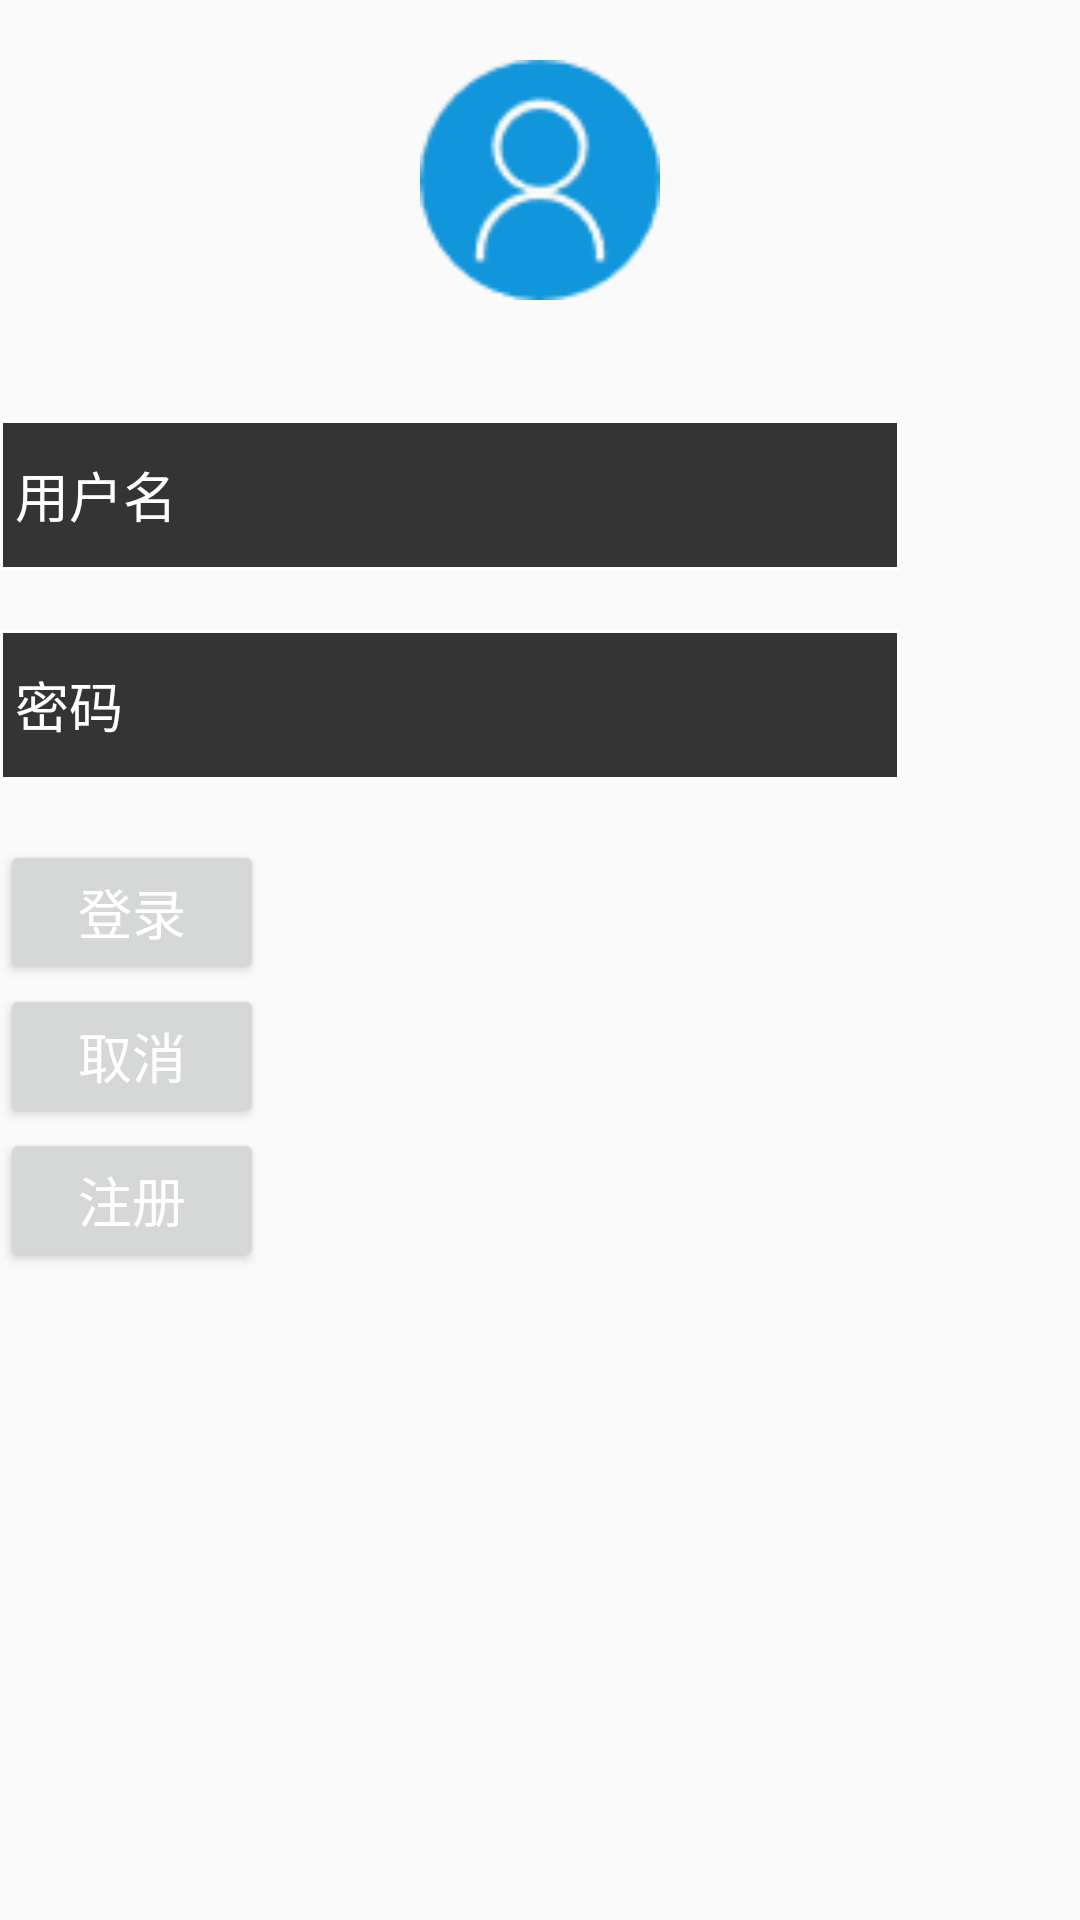

Point at icon controls on the screen. Image size 1080px×1920px, points as [x,y].
user: [540,180]
